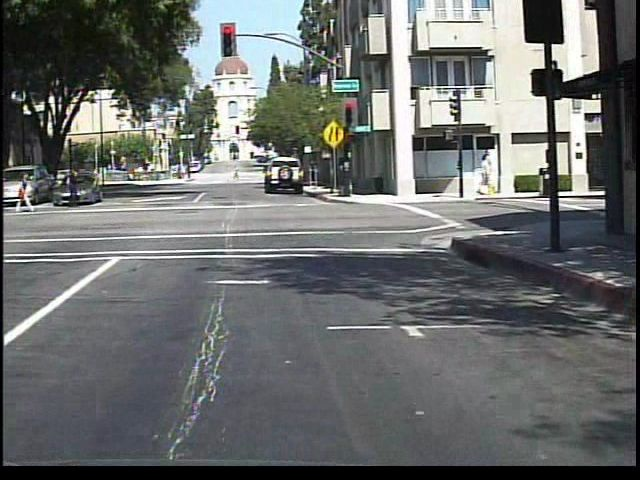person: (13, 170, 37, 219), (62, 167, 86, 209), (234, 166, 244, 183)
